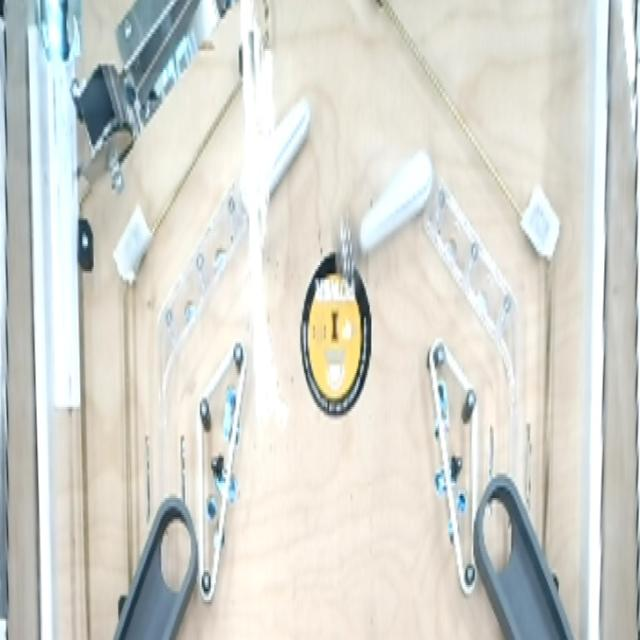ball: (336, 198, 360, 292)
flipper-left: (355, 145, 441, 262)
flipper-right: (235, 89, 313, 231)
